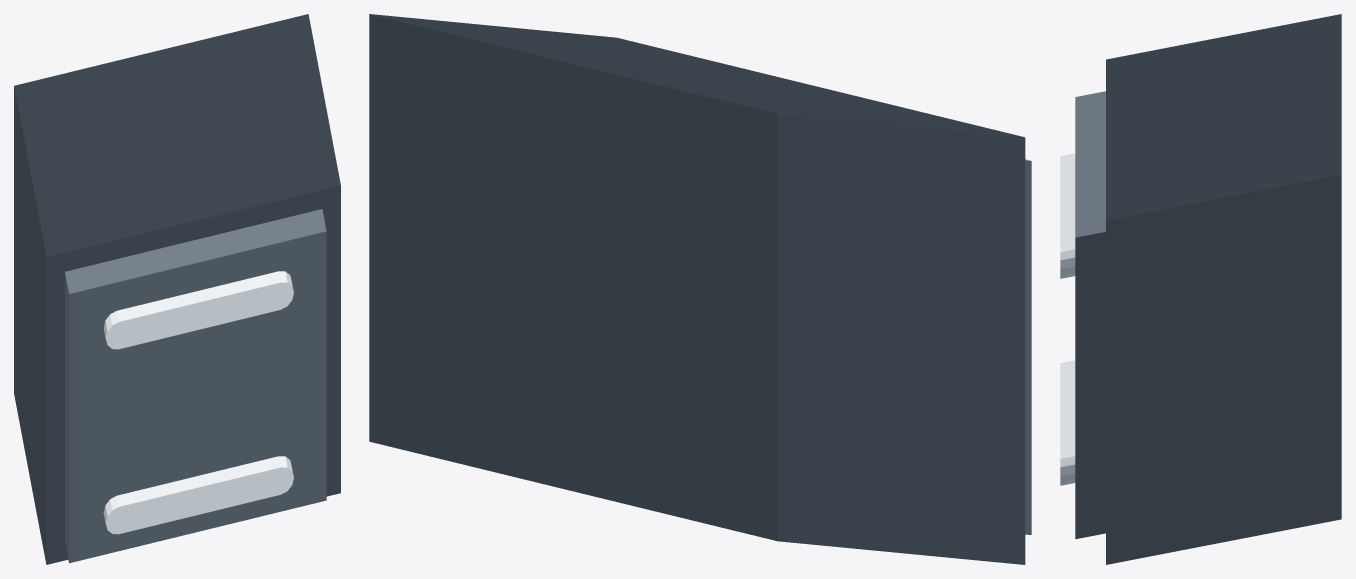
Rendered from LockWall_Tile.gltf.
The picture shows the model from 3 angles, left to right: view 1: azimuth 30°, elevation 25°; view 2: azimuth 150°, elevation 25°; view 3: azimuth 270°, elevation 25°; orthographic projection. The views are drawn at different scales.
Visible parts, largest first — view 1: LockWall_Tile_baked; view 2: LockWall_Tile_baked; view 3: LockWall_Tile_baked.
Boxes of the visible parts, x1,y1,x2,y2 form: LockWall_Tile_baked: (14,14,340,564); LockWall_Tile_baked: (369,14,1031,564); LockWall_Tile_baked: (1060,14,1341,564).
Size of the model in its own units: 1.25 by 1.25 by 0.74.
